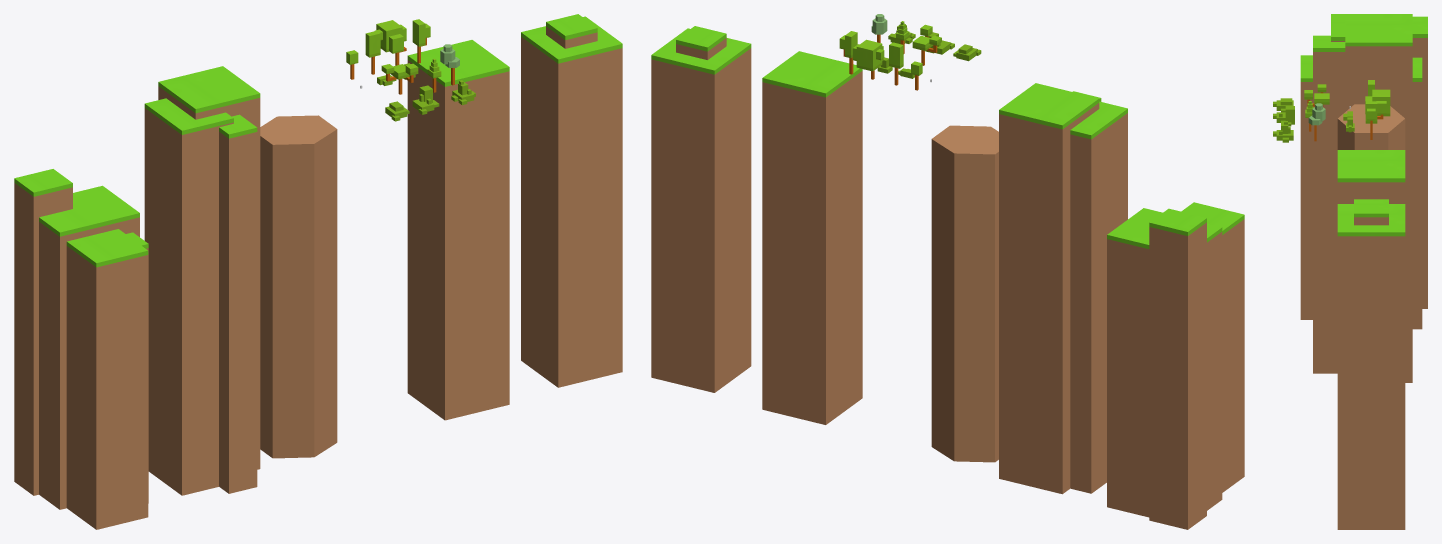
The model's file is env.fbx.
3 renders of one model, left to right at view 1: azimuth 30°, elevation 25°; view 2: azimuth 150°, elevation 25°; view 3: azimuth 270°, elevation 25°, orthographic. The views are drawn at different scales.
Visible parts, largest first — view 1: Cube.008, Cube.009, Cube.010, Cube.007, Cylinder, Cube.001; view 2: Cube.008, Cube.009, Cube.007, Cube.010, Cylinder, Cube.001; view 3: Cube.010, Cube.008, Cube.009, Cube.007, Cylinder, Cube.001, Cube.011, Cube.002, Cube.013, Cube.015, Cube.014, Cube.016.
Part boxes in pixels (x1,y1,x2,y2): Cube.008: [144, 66, 260, 495]; Cube.009: [14, 169, 148, 529]; Cube.010: [521, 14, 622, 387]; Cube.007: [407, 40, 509, 420]; Cylinder: [260, 115, 337, 458]; Cube.001: [375, 20, 406, 65]; Cube.008: [999, 83, 1127, 494]; Cube.009: [1107, 202, 1244, 529]; Cube.007: [762, 51, 862, 424]; Cube.010: [651, 26, 751, 392]; Cylinder: [931, 125, 998, 462]; Cube.001: [852, 39, 884, 79]; Cube.010: [1337, 199, 1405, 529]; Cube.008: [1313, 14, 1412, 382]; Cube.009: [1300, 16, 1427, 329]; Cube.007: [1337, 150, 1405, 203]; Cylinder: [1337, 104, 1405, 149]; Cube.001: [1365, 89, 1390, 119]; Cube.011: [1304, 84, 1329, 106]; Cube.002: [1365, 101, 1377, 139]; Cube.013: [1308, 103, 1325, 141]; Cube.015: [1273, 106, 1294, 126]; Cube.014: [1273, 121, 1293, 142]; Cube.016: [1273, 98, 1293, 112].
Size of the model in its own units: 8648 by 5824 by 2289.
